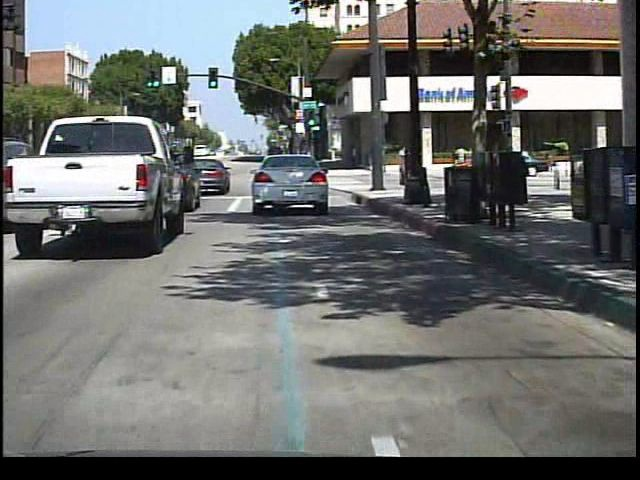person: (453, 139, 472, 176)
